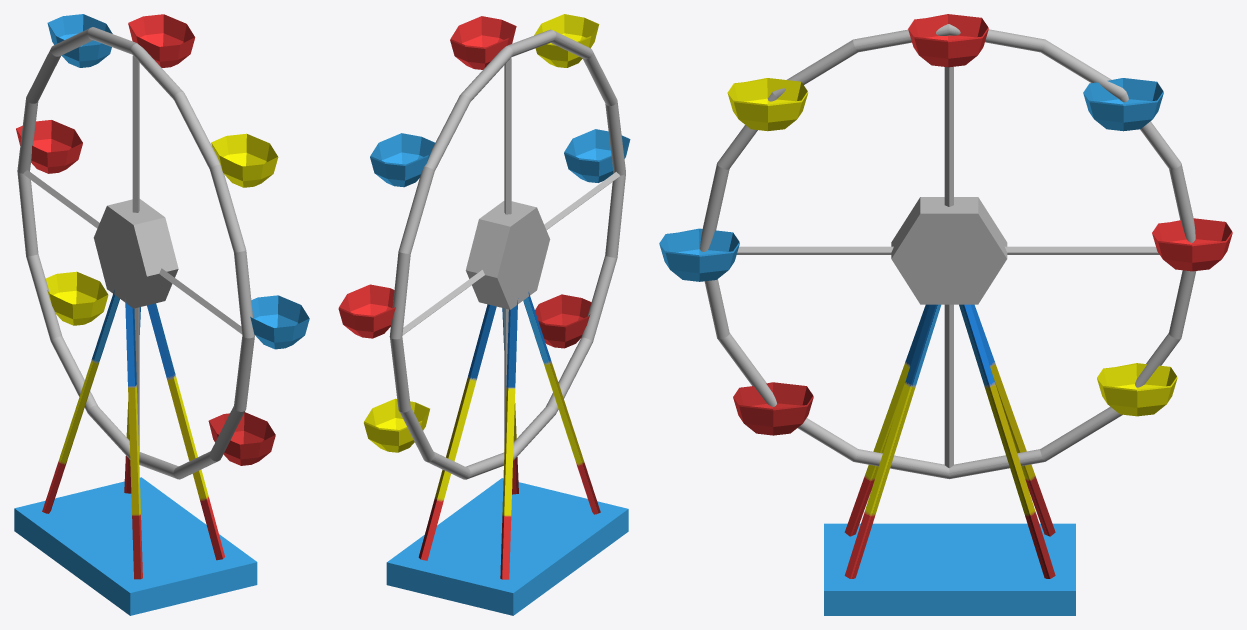
Rendered from rodaGigante.fbx.
3 renders of one model, left to right at view 1: azimuth 30°, elevation 25°; view 2: azimuth 150°, elevation 25°; view 3: azimuth 270°, elevation 25°, orthographic. The views are drawn at different scales.
Visible parts, largest first — view 1: Cylinder.009; view 2: Cylinder.009; view 3: Cylinder.009.
Part boxes in pixels (<box>): Cylinder.009: <box>14,14,309,615</box>; Cylinder.009: <box>338,14,630,615</box>; Cylinder.009: <box>659,14,1232,615</box>.
Size of the model in its own units: 304 by 1195 by 1093.
